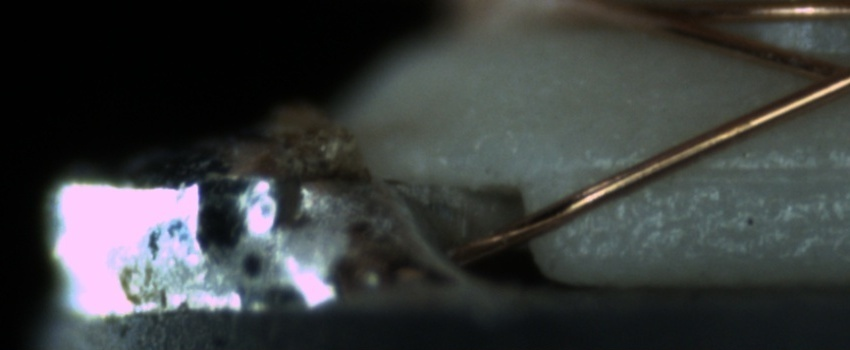CL: (779, 45, 848, 108)
DL: (607, 139, 847, 206)
